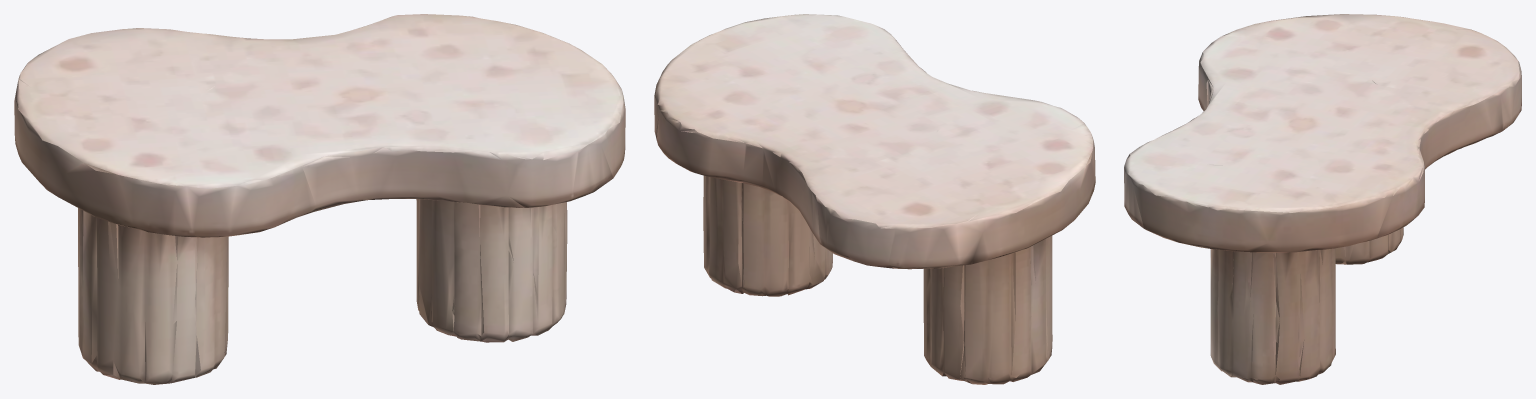
Rendered from table19.glb.
3 views of the same model, side by side, from view 1: azimuth 30°, elevation 25°; view 2: azimuth 150°, elevation 25°; view 3: azimuth 270°, elevation 25° (orthographic). The views are drawn at different scales.
Size of the model in its own units: 0.2552 by 0.1152 by 0.2153.
Materials: 1 (1 with a texture image).
